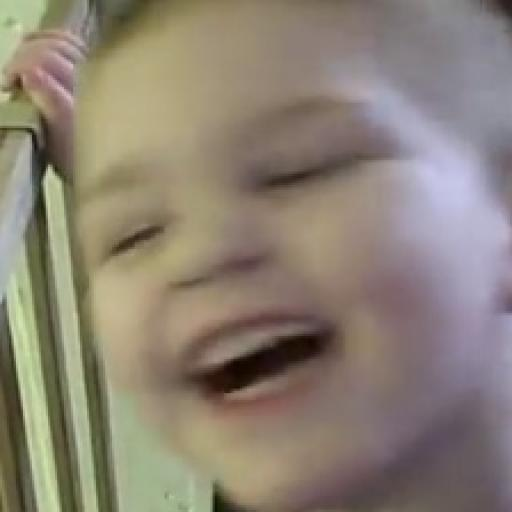Autism: (68, 9, 512, 512)
